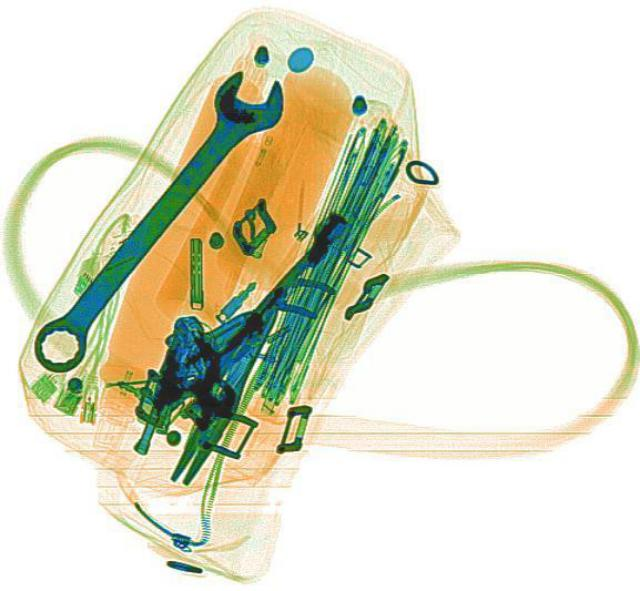Gun: (130, 298, 258, 469)
Wrench: (12, 56, 300, 381)
